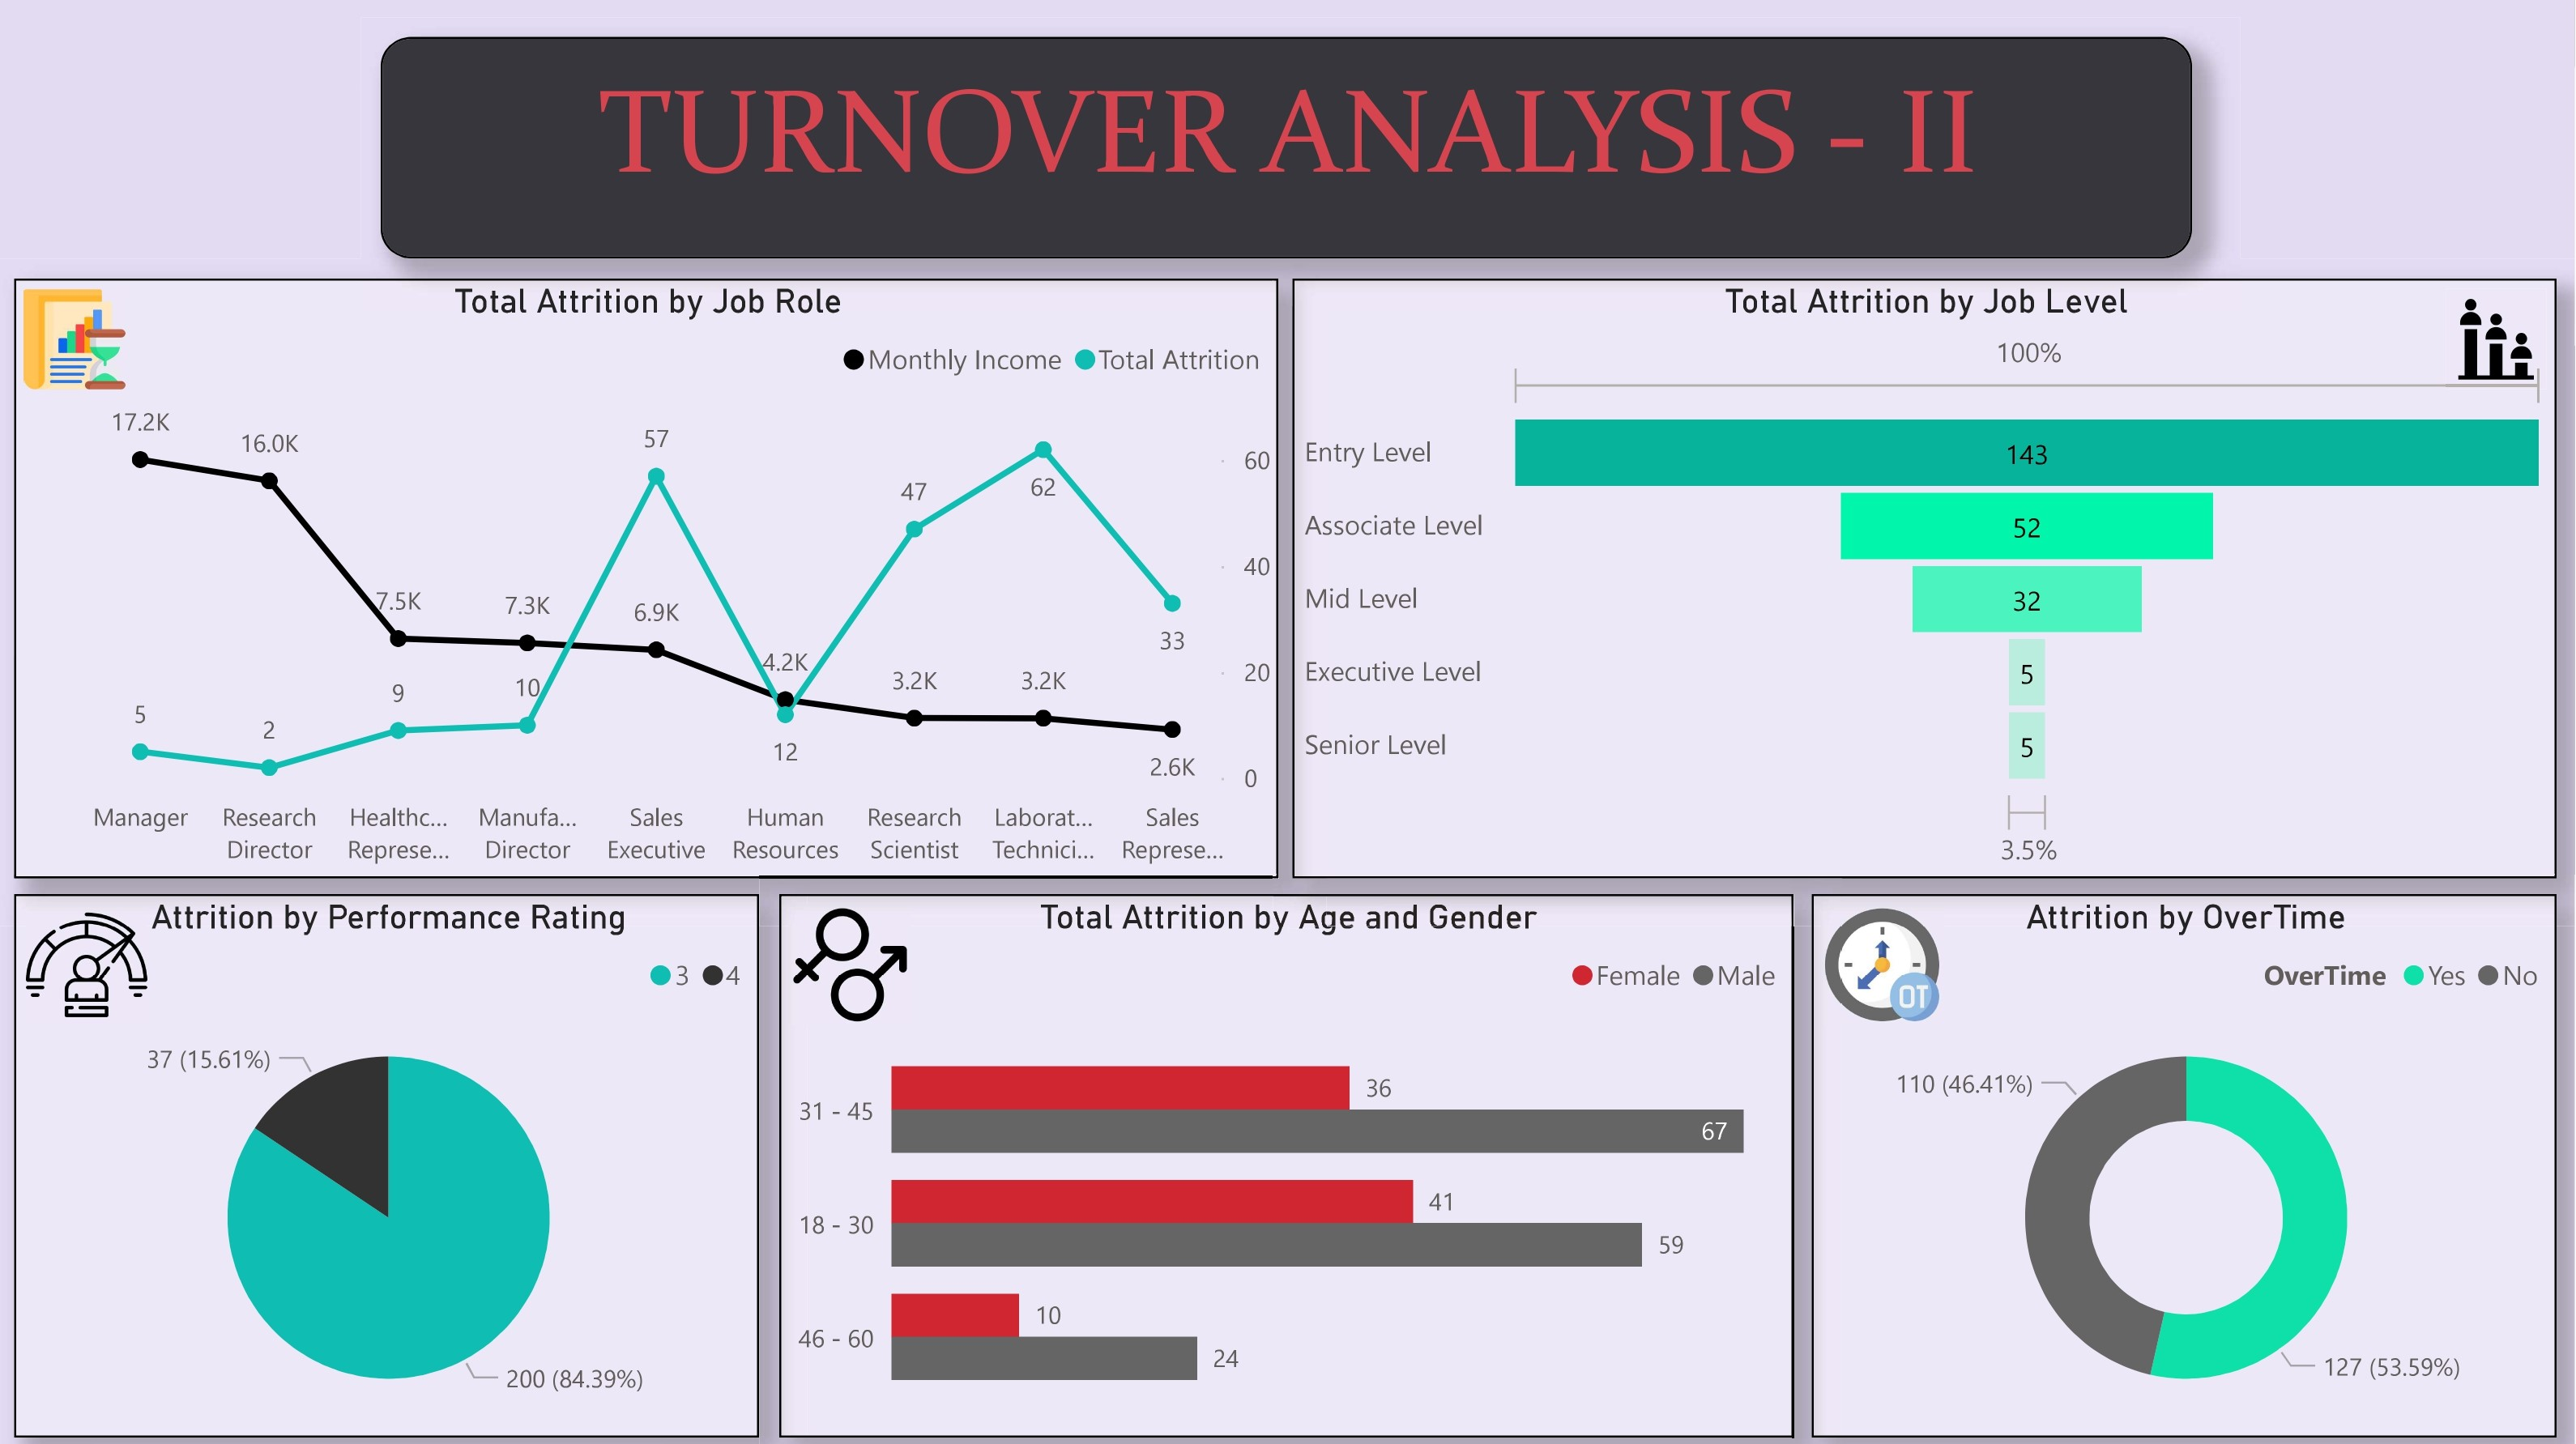

What the dashboard file says about the page in this screenshot:
{"tool":"powerbi","page":{"name":"Turnover Analysis","canvas":[1280,720],"ordinal":3},"visuals":[{"type":"textbox","box":[190,18.5,900.3,110.1],"z":0},{"type":"lineChart","title":"Total Attrition by Job Role","fields":{"Category":["HR-Employee-Attrition.JobRole"],"Y2":["Sum(HR-Employee-Attrition.Attrition in Number)"],"Y":["Avg(HR-Employee-Attrition.MonthlyIncome)"]},"box":[8.4,138.7,627.5,298.5],"z":1000},{"type":"pieChart","title":"Attrition by Performance Rating","fields":{"Y":["Sum(HR-Employee-Attrition.Attrition in Number)"],"Category":["HR-Employee-Attrition.PerformanceRating"]},"box":[8.4,444.6,370,270.1],"z":2000},{"type":"clusteredBarChart","title":"Total Attrition by Age and Gender","fields":{"Y":["Sum(HR-Employee-Attrition.Attrition in Number)"],"Series":["HR-Employee-Attrition.Gender"],"Category":["HR-Employee-Attrition.Age (groups)"]},"box":[387.9,444.6,504.5,270.1],"z":3000},{"type":"funnel","title":"Total Attrition by Job Level","fields":{"Y":["Sum(HR-Employee-Attrition.Attrition in Number)"],"Category":["HR-Employee-Attrition.JobLevel (groups)"]},"box":[643.3,138.7,627.5,298.5],"z":4000},{"type":"donutChart","title":"Attrition by OverTime","fields":{"Category":["HR-Employee-Attrition.OverTime"],"Y":["Sum(HR-Employee-Attrition.Attrition in Number)"]},"box":[900.8,444.6,370,270.1],"z":5000},{"type":"image","box":[8.4,138.7,59.9,59.9],"z":5001},{"type":"image","box":[387.9,444.6,70.4,70.4],"z":5002},{"type":"image","box":[1210.9,138.7,59.9,59.9],"z":5003},{"type":"image","box":[8.4,444.6,70.4,70.4],"z":5004},{"type":"image","box":[900.8,444.6,70.4,70.4],"z":5005}]}

Visuals, with their boxes in screenshot pixels (x1, y1, x2, y2), scaled from the page's 1280x720 canvas onto the 2576x1444 screenshot:
textbox: box(382, 37, 2194, 258)
"Total Attrition by Job Role" lineChart: box(17, 278, 1280, 877)
"Attrition by Performance Rating" pieChart: box(17, 892, 761, 1433)
"Total Attrition by Age and Gender" clusteredBarChart: box(781, 892, 1796, 1433)
"Total Attrition by Job Level" funnel: box(1294, 278, 2557, 877)
"Attrition by OverTime" donutChart: box(1813, 892, 2557, 1433)
image: box(17, 278, 138, 398)
image: box(781, 892, 923, 1033)
image: box(2437, 278, 2557, 398)
image: box(17, 892, 159, 1033)
image: box(1813, 892, 1955, 1033)
